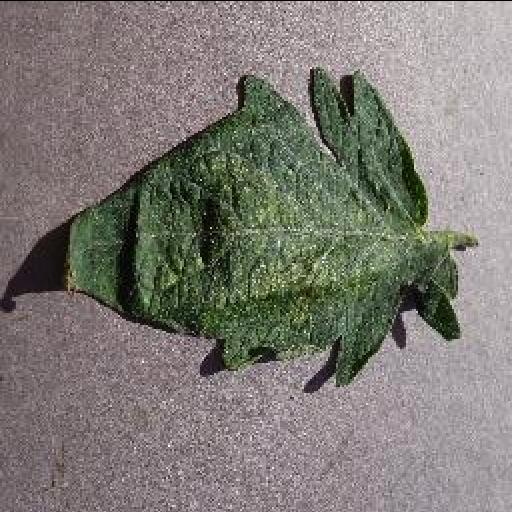disease_tomato: (63, 66, 461, 384)
